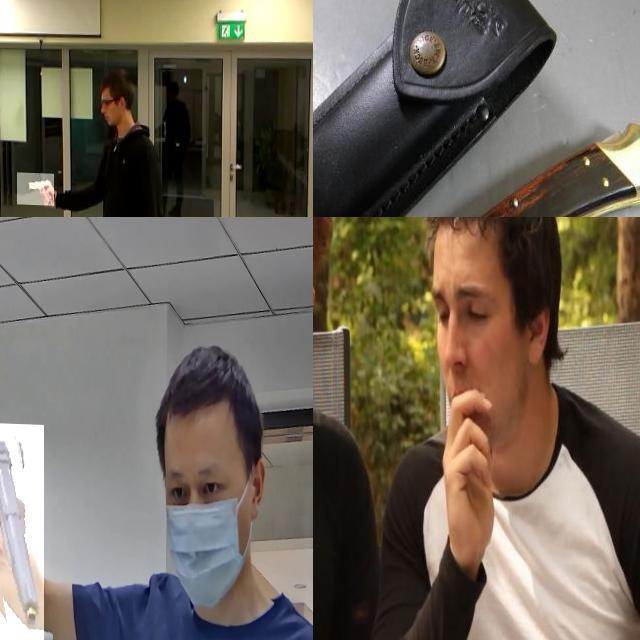-: (313, 445, 359, 631)
gun-knife-thesis - v11 Yolov5 augmented: (0, 420, 44, 640), (17, 170, 54, 203)
